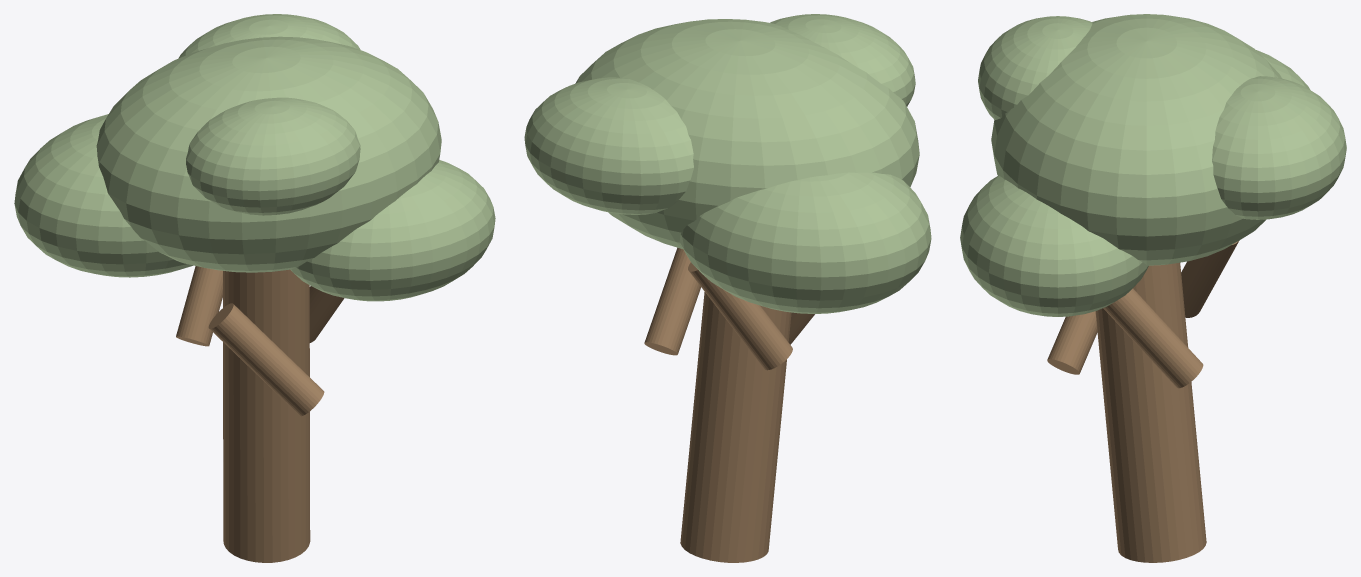
File: olive_tree.glb
The picture shows the model from 3 angles, left to right: view 1: azimuth 30°, elevation 25°; view 2: azimuth 150°, elevation 25°; view 3: azimuth 270°, elevation 25°; orthographic projection. The views are drawn at different scales.
Visible parts, largest first — view 1: Sphere, Cylinder, Sphere.004, Sphere.002, Sphere.001, Cylinder.003, Sphere.003, Cylinder.002, Cylinder.001; view 2: Sphere, Sphere.001, Cylinder, Sphere.003, Sphere.004, Cylinder.002, Cylinder.001; view 3: Sphere, Cylinder, Sphere.002, Sphere.003, Sphere.004, Cylinder.001, Cylinder.003, Cylinder.002, Sphere.001.
Part boxes in pixels (<box>): Sphere: <box>96,36,441,272</box>; Cylinder: <box>223,269,310,562</box>; Sphere.004: <box>186,97,360,215</box>; Sphere.002: <box>290,160,495,301</box>; Sphere.001: <box>14,114,193,277</box>; Cylinder.003: <box>208,303,324,416</box>; Sphere.003: <box>178,14,360,58</box>; Cylinder.002: <box>176,266,222,346</box>; Cylinder.001: <box>309,286,344,342</box>; Sphere: <box>575,19,919,248</box>; Sphere.001: <box>679,172,931,313</box>; Cylinder: <box>680,292,791,562</box>; Sphere.003: <box>524,77,693,214</box>; Sphere.004: <box>770,14,915,106</box>; Cylinder.002: <box>688,262,792,370</box>; Cylinder.001: <box>644,247,700,355</box>; Sphere: <box>991,14,1281,265</box>; Cylinder: <box>1095,262,1206,562</box>; Sphere.002: <box>960,175,1148,316</box>; Sphere.003: <box>1212,76,1346,219</box>; Sphere.004: <box>978,16,1092,119</box>; Cylinder.001: <box>1103,288,1203,388</box>; Cylinder.003: <box>1047,311,1097,374</box>; Cylinder.002: <box>1181,240,1239,317</box>; Sphere.001: <box>1256,50,1310,89</box>.
Bounding box in the file's own units: 1.01 × 1.25 × 0.87.
